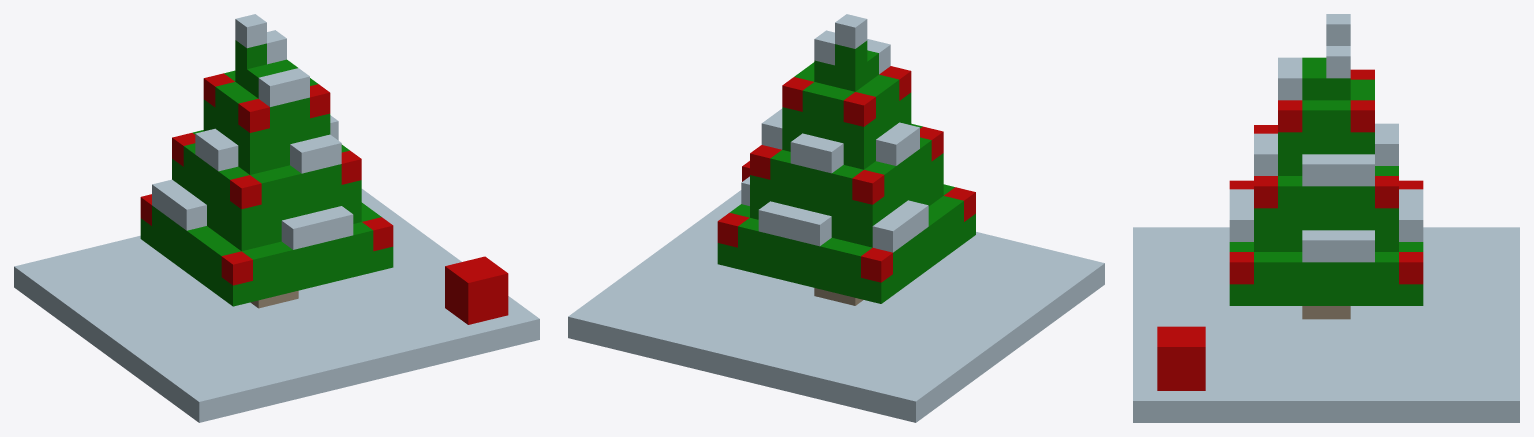
The model's file is tree.gltf.
The picture shows the model from 3 angles, left to right: view 1: azimuth 30°, elevation 25°; view 2: azimuth 150°, elevation 25°; view 3: azimuth 270°, elevation 25°; orthographic projection. The views are drawn at different scales.
Size of the model in its own units: 17 by 14 by 16.
